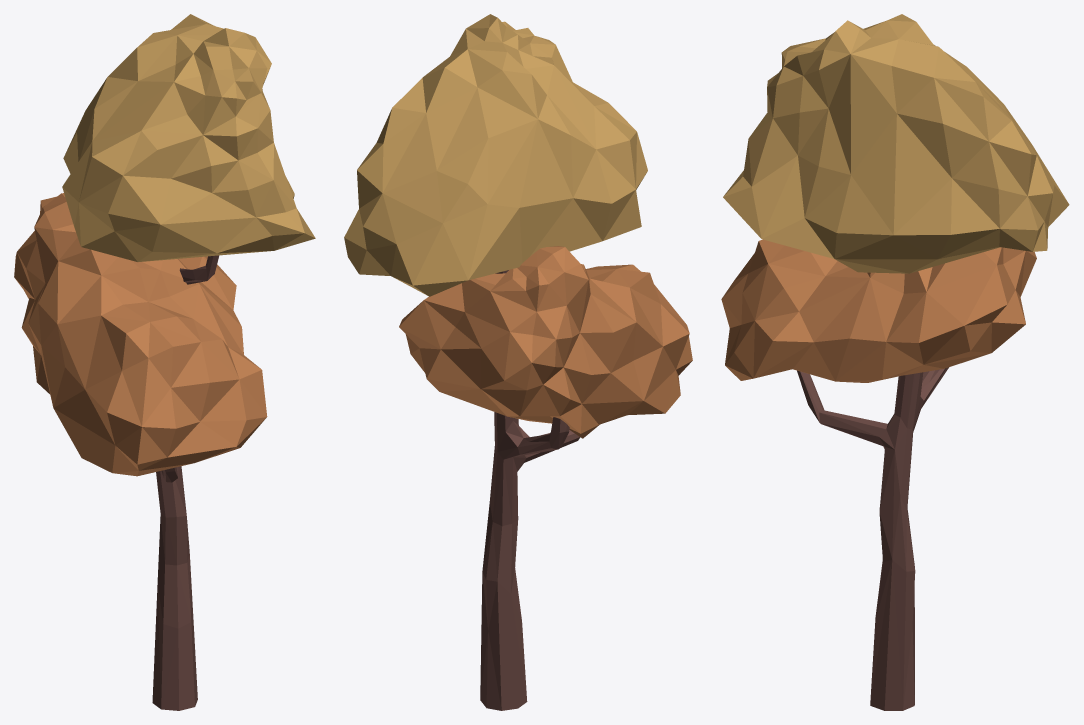
File: CommonTree_Autumn_3.lod1.glb
The picture shows the model from 3 angles, left to right: view 1: azimuth 30°, elevation 25°; view 2: azimuth 150°, elevation 25°; view 3: azimuth 270°, elevation 25°; orthographic projection. The views are drawn at different scales.
Visible parts, largest first — view 1: CommonTree_Autumn_3; view 2: CommonTree_Autumn_3; view 3: CommonTree_Autumn_3.
Boxes of the visible parts, x1,y1,x2,y2 form: CommonTree_Autumn_3: [14, 14, 315, 710]; CommonTree_Autumn_3: [344, 14, 692, 710]; CommonTree_Autumn_3: [721, 14, 1069, 710].
Bounding box in the file's own units: 1.28 × 3.45 × 1.56.
